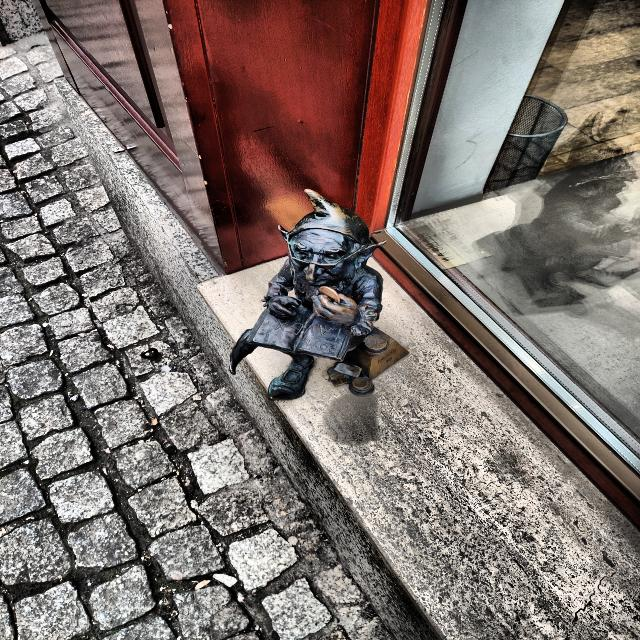Gaugan: (230, 190, 408, 399)
